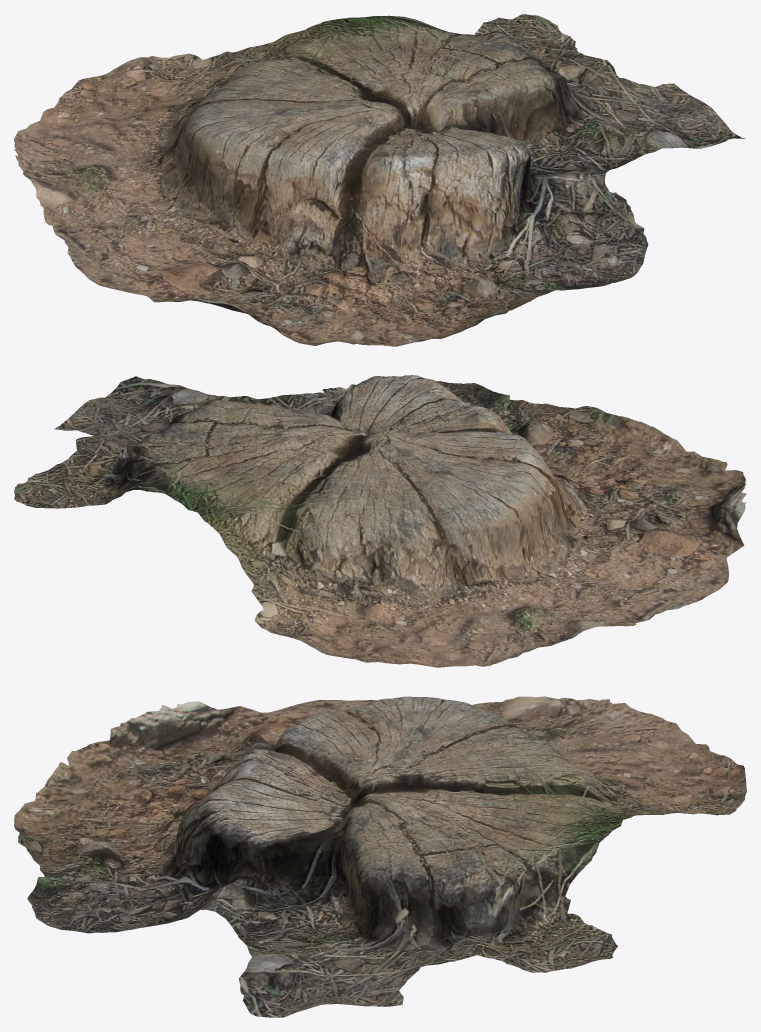
File: arbo_dead_tree_log_stump.glb
The picture shows the model from 3 angles, top to bottom: view 1: azimuth 30°, elevation 25°; view 2: azimuth 150°, elevation 25°; view 3: azimuth 270°, elevation 25°; orthographic projection. The views are drawn at different scales.
Visible parts, largest first — view 1: Model_material0_0; view 2: Model_material0_0; view 3: Model_material0_0.
Boxes of the visible parts, x1,y1,x2,y2 form: Model_material0_0: (14, 14, 745, 346); Model_material0_0: (14, 375, 746, 667); Model_material0_0: (14, 696, 746, 1017).
Size of the model in its own units: 1.2 by 0.1784 by 1.11.
1 material, 1 textured.
